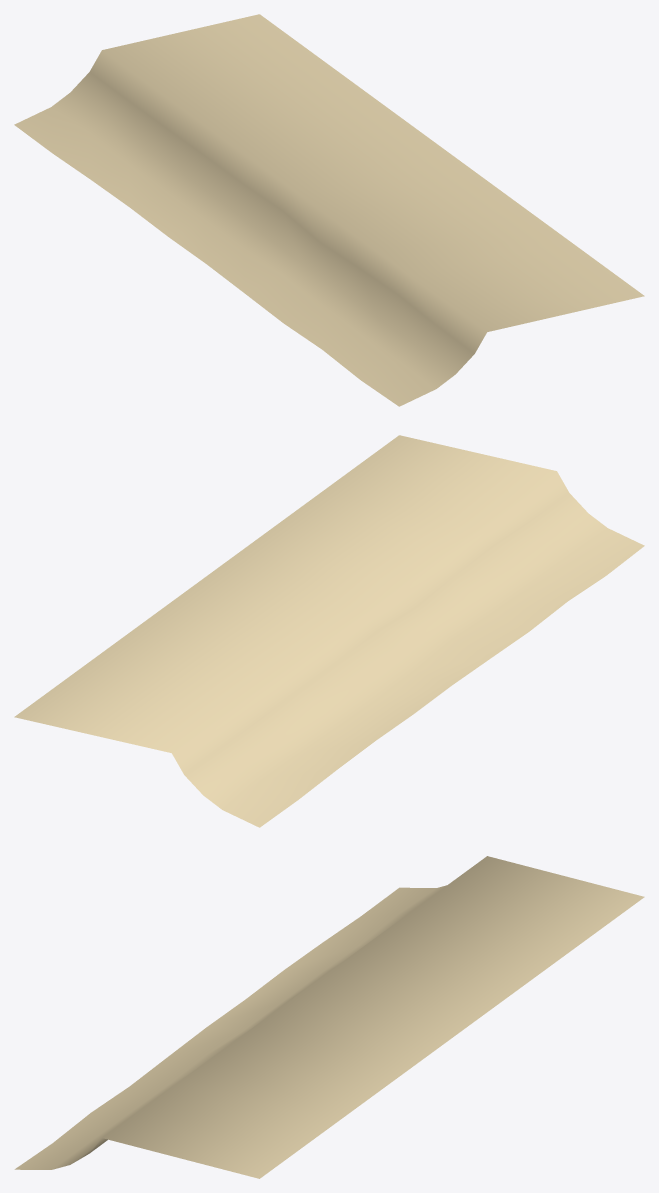
The model's file is Ground_01.fbx.
3 renders of one model, top to bottom at view 1: azimuth 30°, elevation 25°; view 2: azimuth 150°, elevation 25°; view 3: azimuth 330°, elevation 25°, orthographic.
Parts seen in each view (by area): view 1: Ground_01; view 2: Ground_01; view 3: Ground_01.
Part boxes in pixels (x1,y1,x2,y2): Ground_01: (14, 14, 644, 406); Ground_01: (14, 435, 644, 827); Ground_01: (14, 856, 644, 1178).
Size of the model in its own units: 73.63 by 15.72 by 200.
